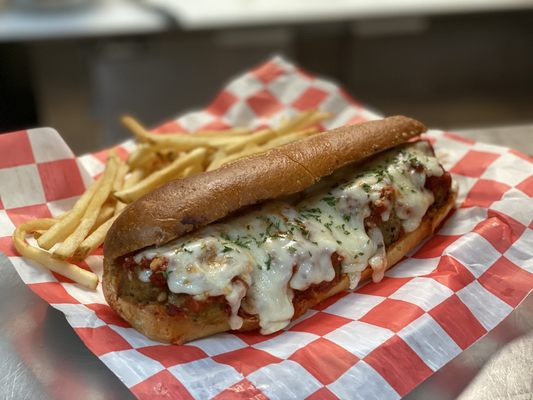soup: (99, 105, 462, 346)
